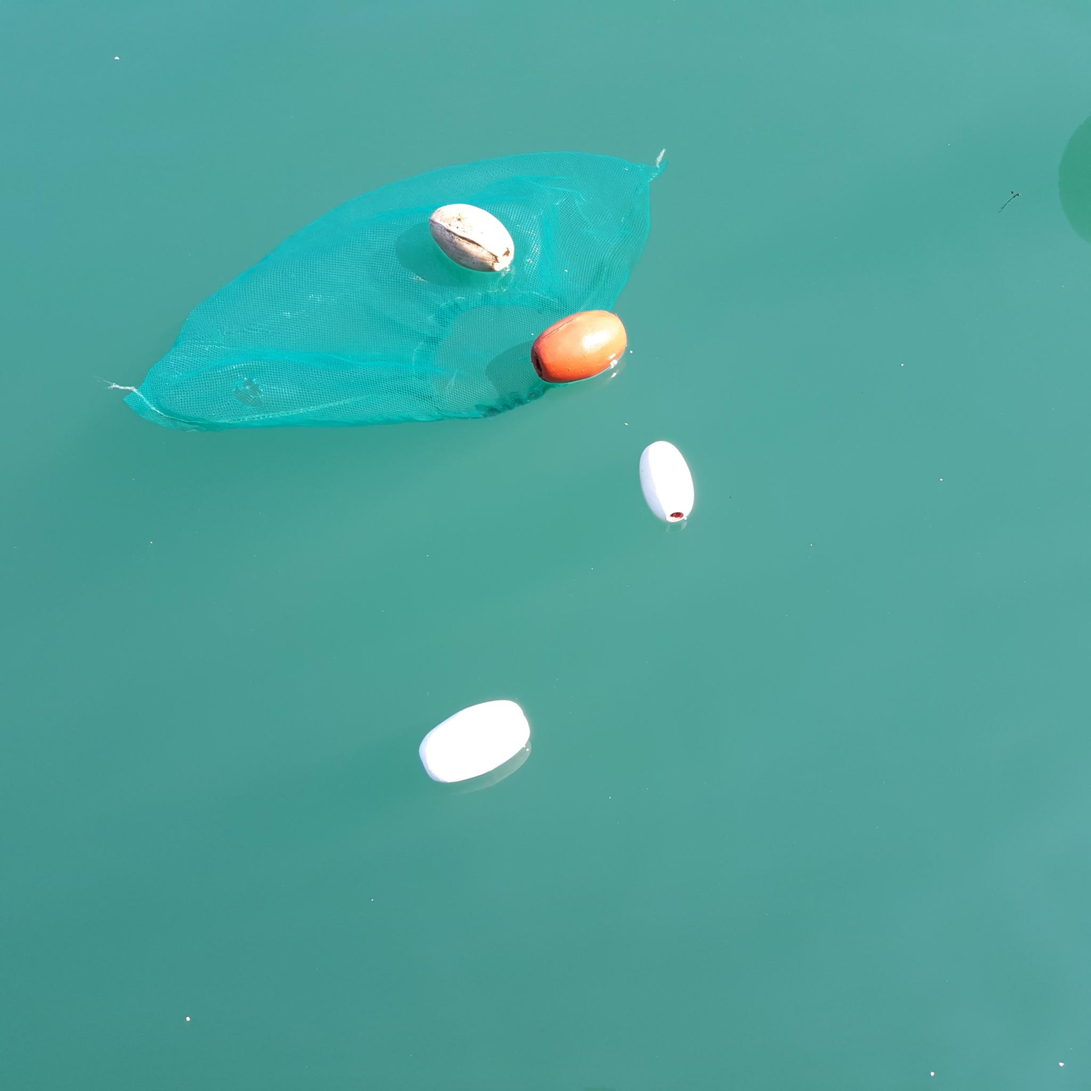sampah_terapung: (124, 152, 671, 433), (419, 700, 531, 784), (531, 311, 628, 384), (429, 204, 515, 273), (639, 442, 695, 523)
